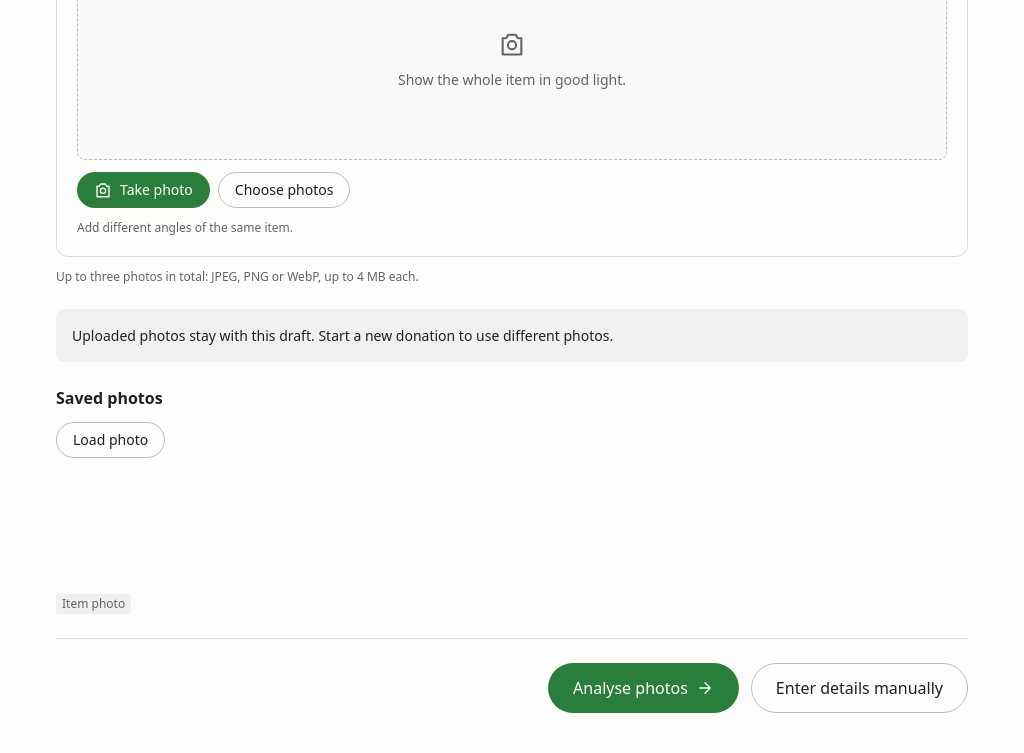
Test: saves the displayed category after analysis entry of an uncategorised draft
(page scrolled)
Click the button "Analyse photos": (644, 688) [548, 663, 739, 713]
(page scrolled)
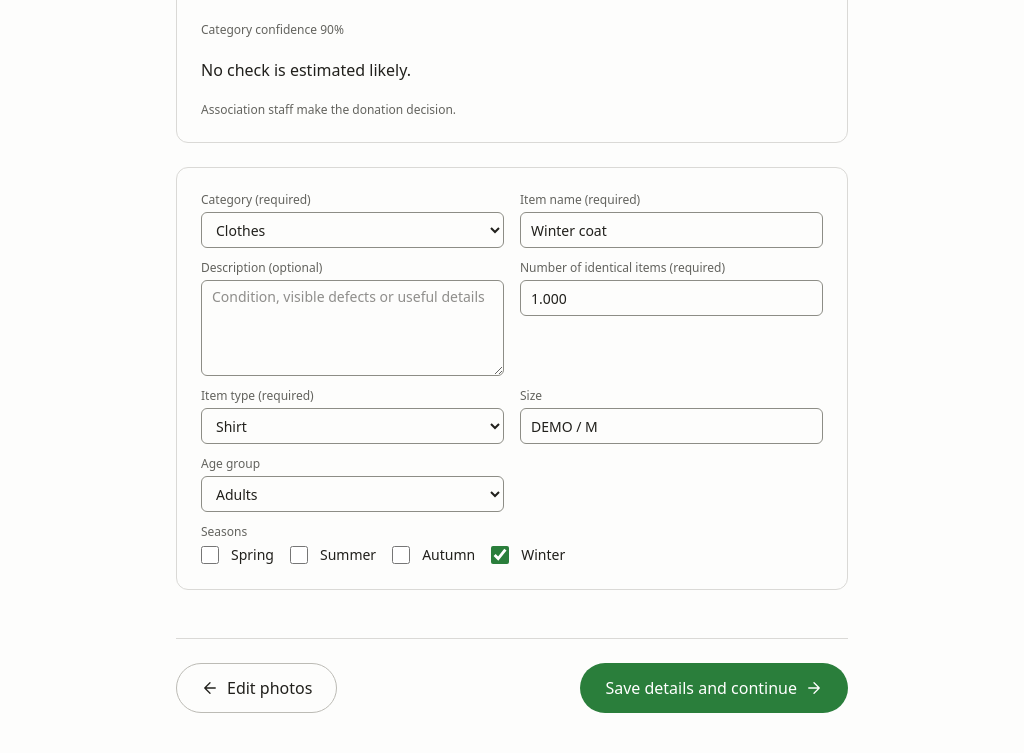
Check: the dropdown with id "category" shows "Clothes", box [201, 212, 504, 248]
Submit the form with id "donation-details", box [176, 167, 848, 590]
(page scrolled)
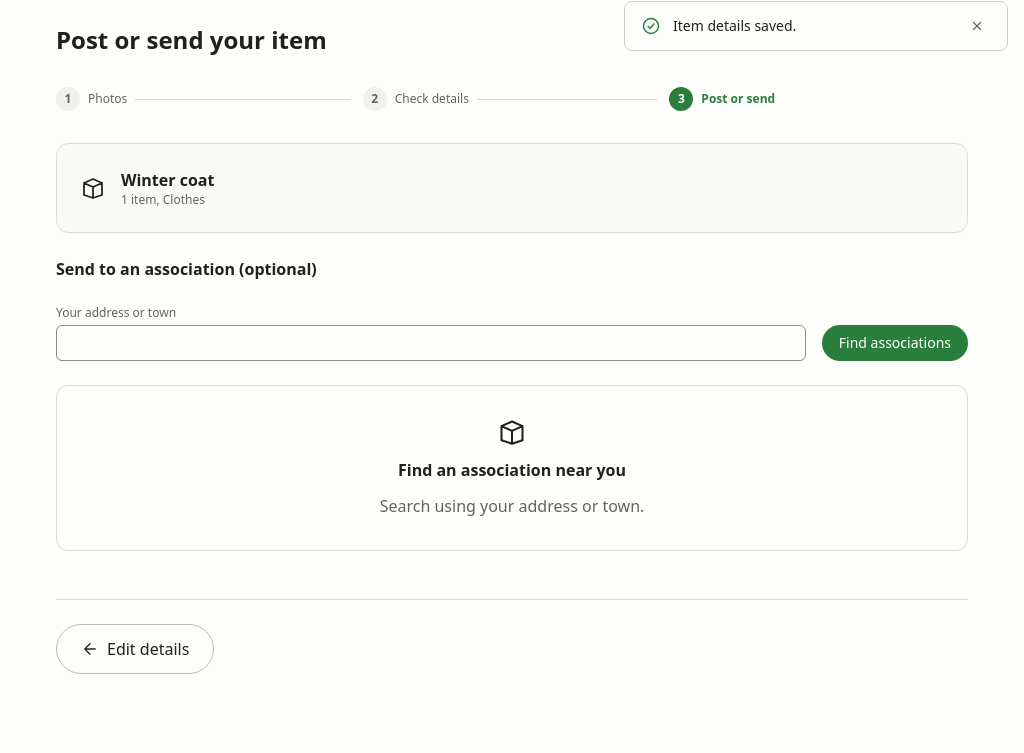
Check: the message with class "notification-success" reads "Item details saved.", box [673, 16, 796, 35]
Check: the form with id "donation-details" is gone
